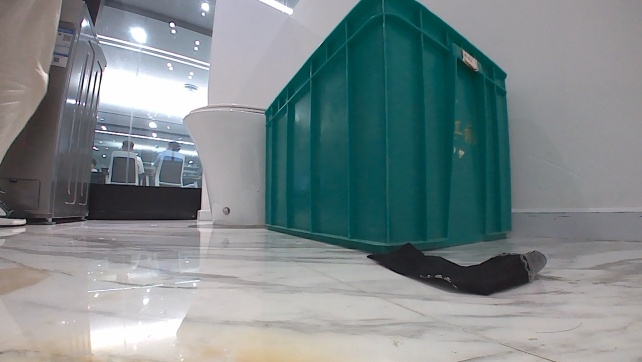socks: (360, 241, 550, 296)
toilet: (184, 101, 270, 227)
